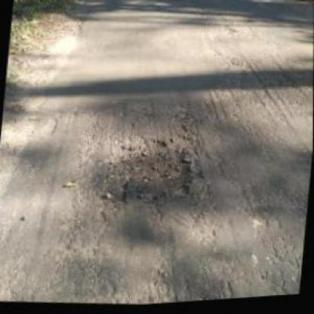Hueco: (100, 132, 200, 211)
